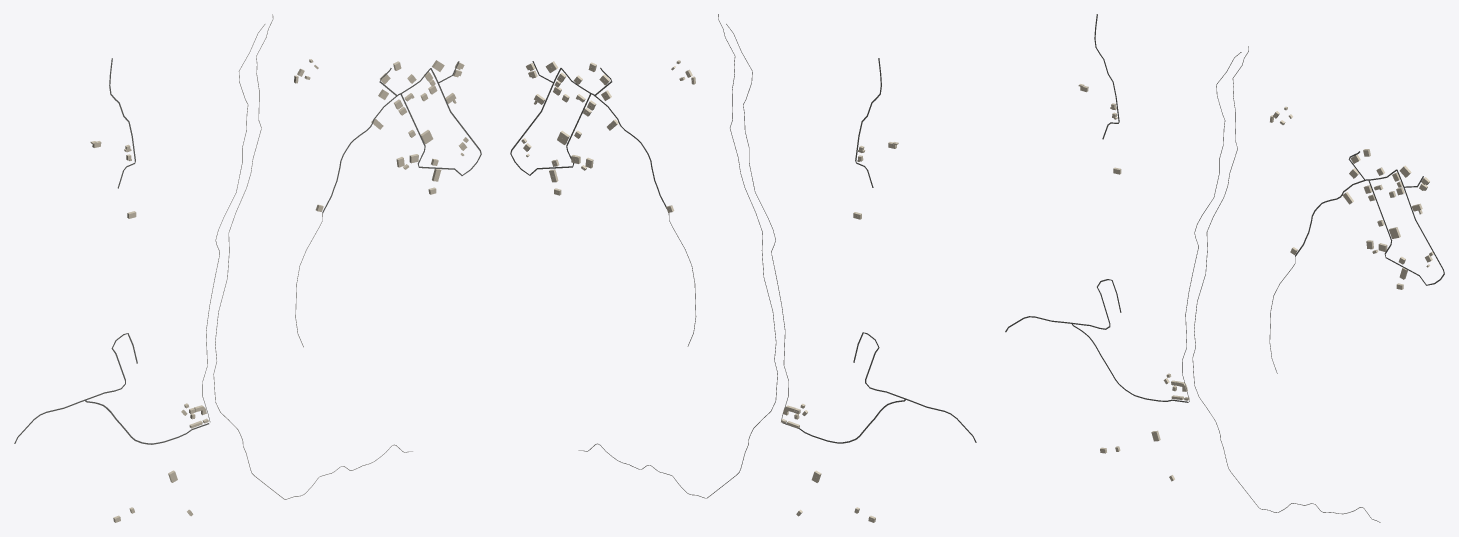
The model's file is historic-palestine-11_23_3526_3172.glb.
The picture shows the model from 3 angles, left to right: view 1: azimuth 30°, elevation 25°; view 2: azimuth 150°, elevation 25°; view 3: azimuth 330°, elevation 25°; orthographic projection. The views are drawn at different scales.
Visible parts, largest first — view 1: Road .003; view 2: Road .003; view 3: Road .003.
Part boxes in pixels (box(x1,y1,x2,y2)): Road .003: box(213, 14, 408, 499); Road .003: box(583, 14, 777, 498); Road .003: box(1192, 46, 1375, 520).
Size of the model in its own units: 1179 by 1177 by 8.7.
